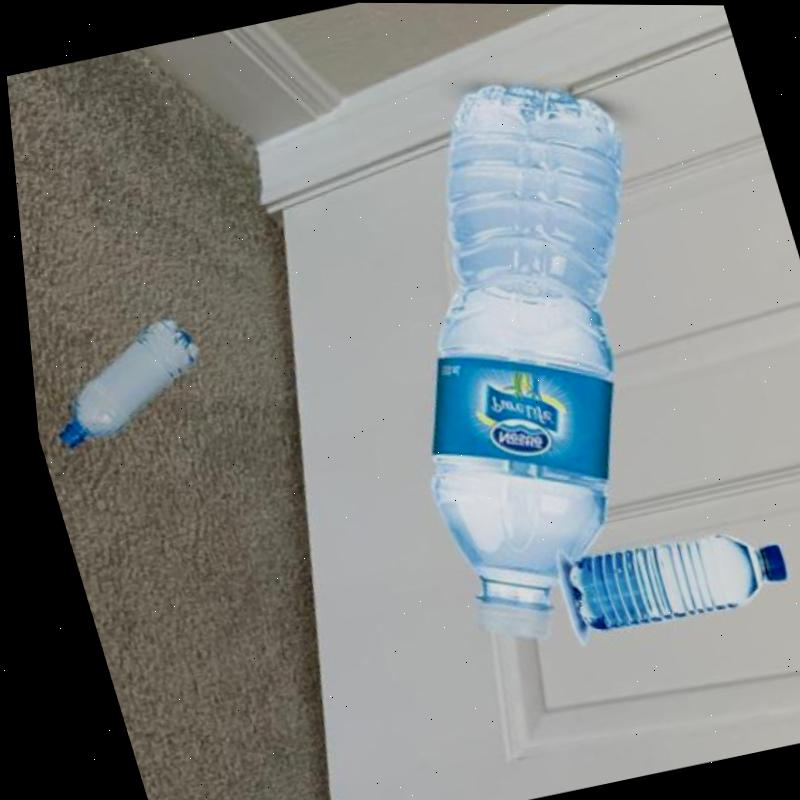botella: (310, 56, 749, 655), (546, 506, 789, 642), (22, 313, 211, 451)
